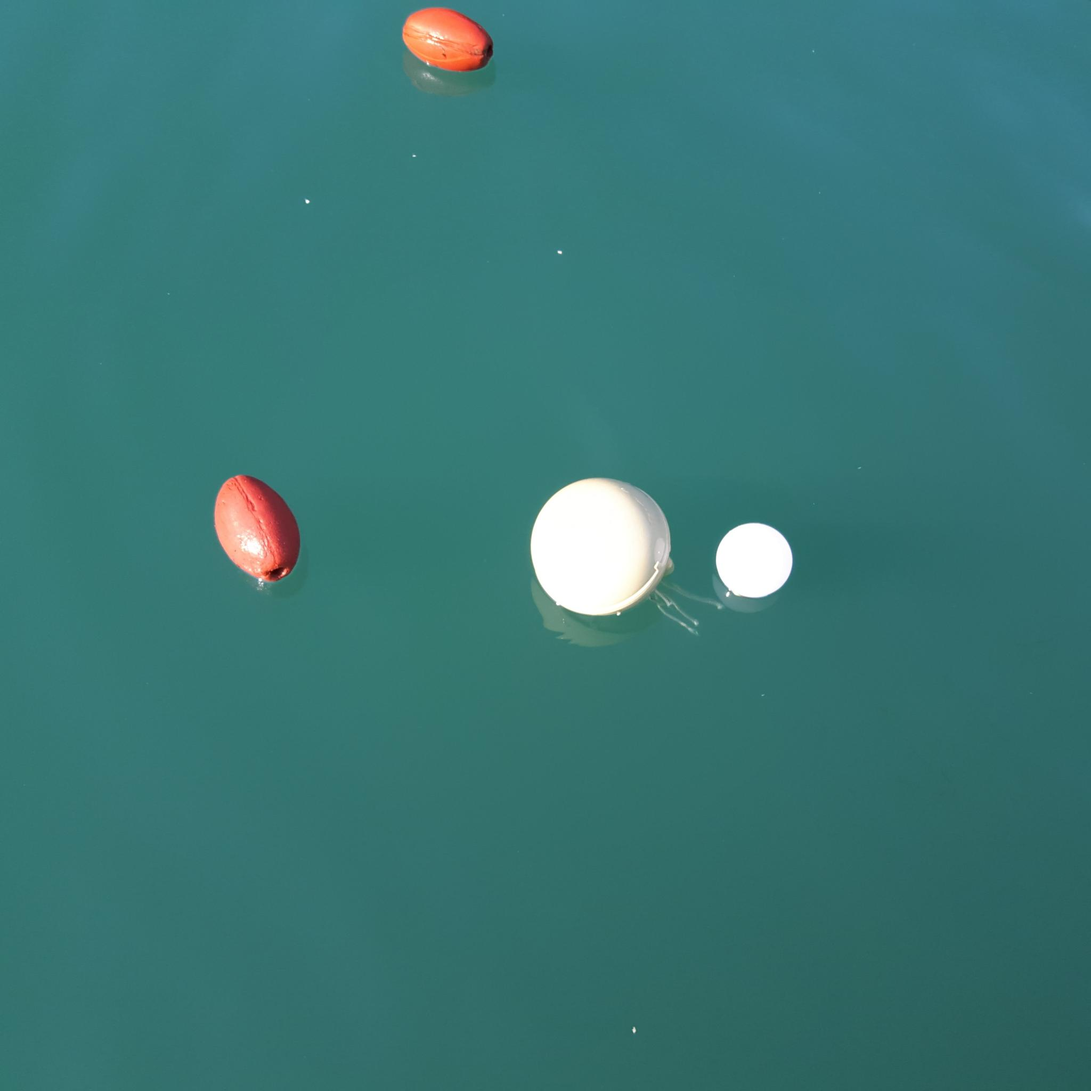sampah_terapung: (532, 478, 672, 617), (214, 475, 301, 582), (716, 523, 794, 599), (403, 8, 494, 71), (649, 579, 725, 637)
